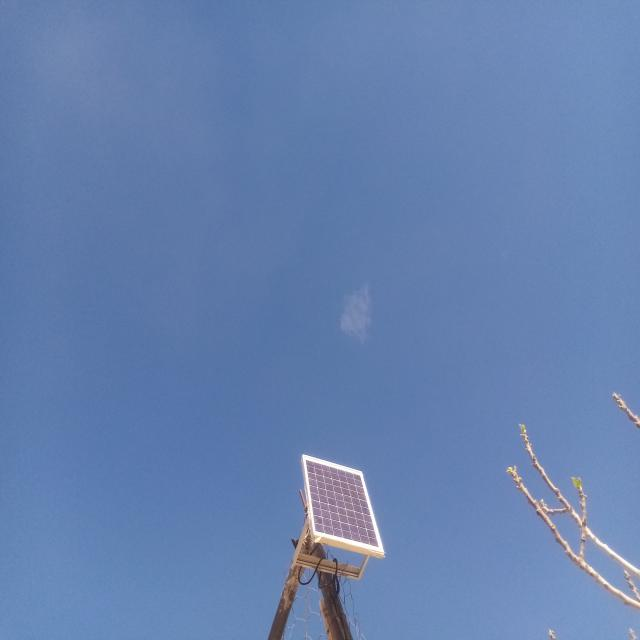no faulty: (302, 454, 384, 553)
